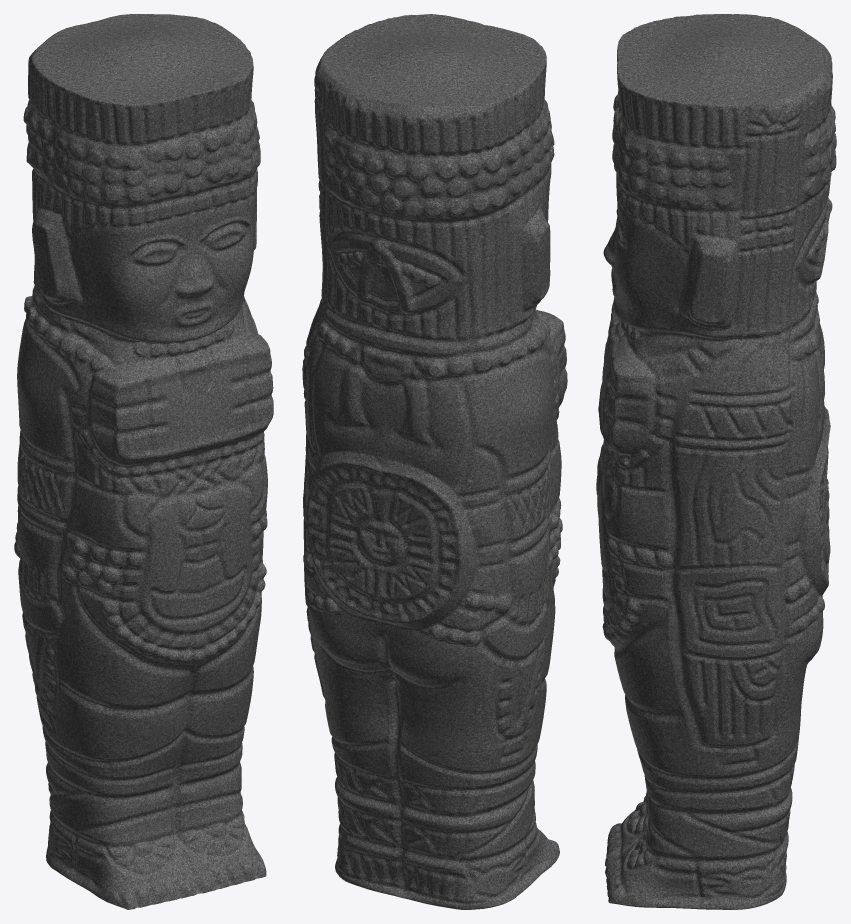
Rendered from atlante.glb.
The picture shows the model from 3 angles, left to right: view 1: azimuth 30°, elevation 25°; view 2: azimuth 150°, elevation 25°; view 3: azimuth 270°, elevation 25°; orthographic projection. The views are drawn at different scales.
Parts seen in each view (by area): view 1: Object.002; view 2: Object.002; view 3: Object.002.
Part boxes in pixels (bbox=[...]): Object.002: bbox=[14, 14, 273, 909]; Object.002: bbox=[302, 14, 567, 909]; Object.002: bbox=[596, 14, 836, 909].
Bounding box in the file's own units: 2.83 × 10.02 × 2.66.
1 material, 1 textured.
